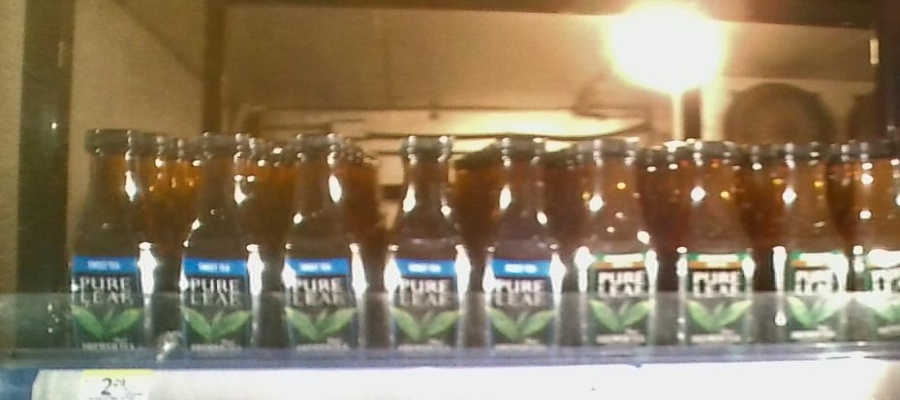bottle: (63, 126, 166, 358), (274, 130, 375, 363), (174, 133, 270, 359), (664, 126, 758, 356), (379, 130, 472, 356), (477, 127, 567, 354), (573, 124, 659, 361), (766, 137, 851, 351), (853, 129, 900, 349)
